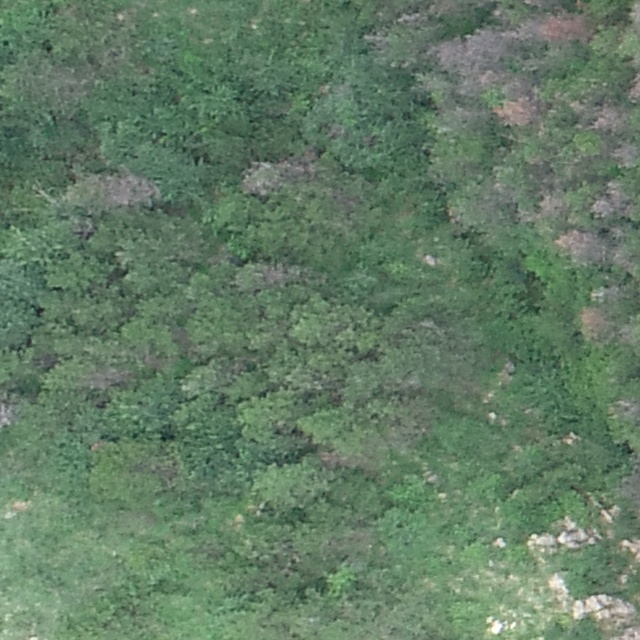unhealthy: (429, 24, 508, 81), (241, 148, 319, 196), (523, 7, 593, 46), (94, 168, 161, 208), (590, 181, 637, 221), (555, 227, 604, 265), (496, 94, 543, 129), (84, 363, 135, 391), (578, 303, 612, 340), (606, 226, 633, 270), (592, 101, 628, 134), (618, 471, 638, 515), (609, 141, 639, 169), (537, 191, 567, 217), (0, 395, 17, 435), (628, 58, 640, 105), (397, 10, 422, 27), (263, 265, 285, 283), (630, 0, 640, 35)
